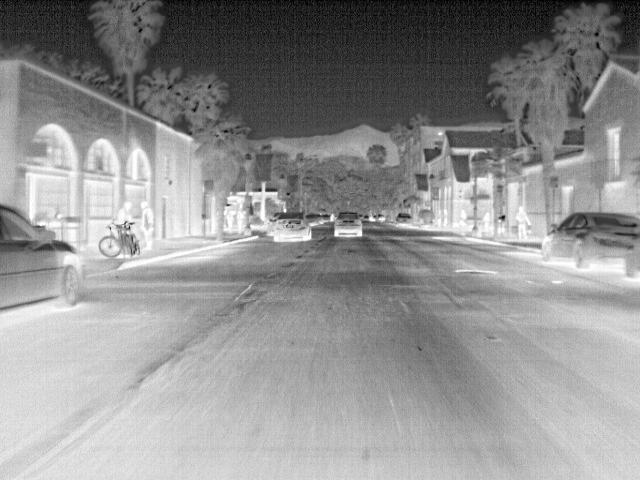car: (2, 203, 84, 314), (536, 211, 640, 270), (274, 213, 314, 244), (332, 215, 366, 237), (393, 211, 416, 229), (267, 212, 283, 233), (303, 212, 320, 227)
person: (141, 199, 157, 250), (515, 205, 534, 239), (116, 200, 135, 222), (233, 210, 246, 235), (225, 208, 237, 231), (480, 210, 493, 229)
